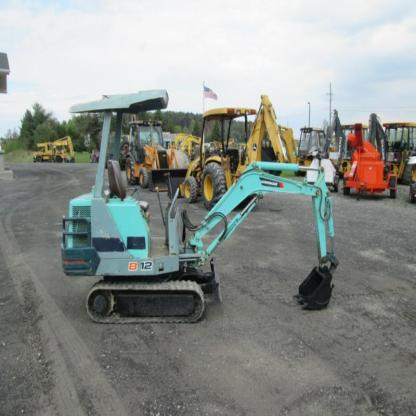excavator: (45, 85, 352, 345)
